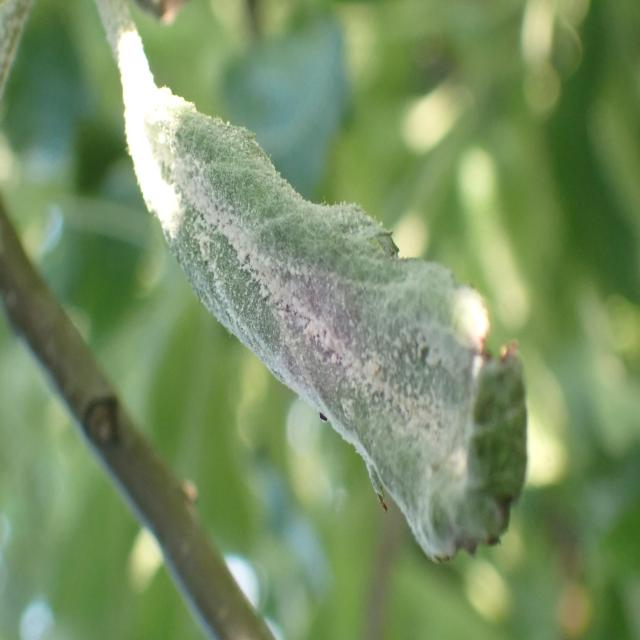Powdery_mildew: (110, 15, 535, 594)
